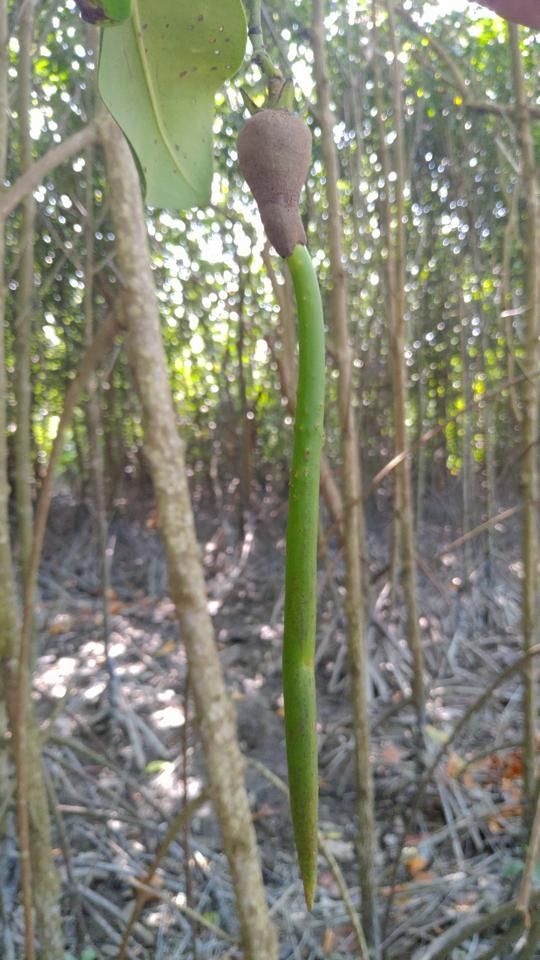mentah: (224, 77, 349, 925)
